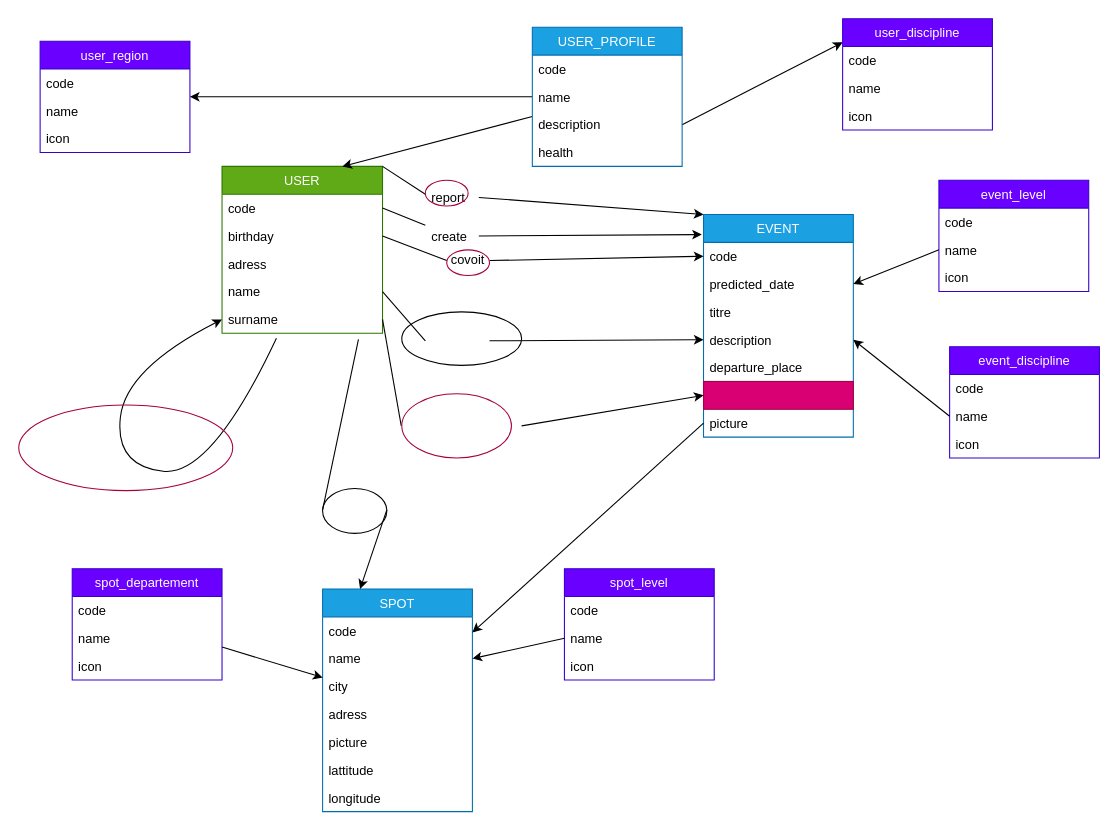
This 1118x834 diagram has some shape labels left out. Here are the shapes that lost their labels. From the top down, the centre of each, then its label:
At (461,338): "commente".
At (777,394): "mentor_need".
At (456,425): "join participation_type".
At (125,447): "rate (rating given by other users)".
At (354,510): "rate".
